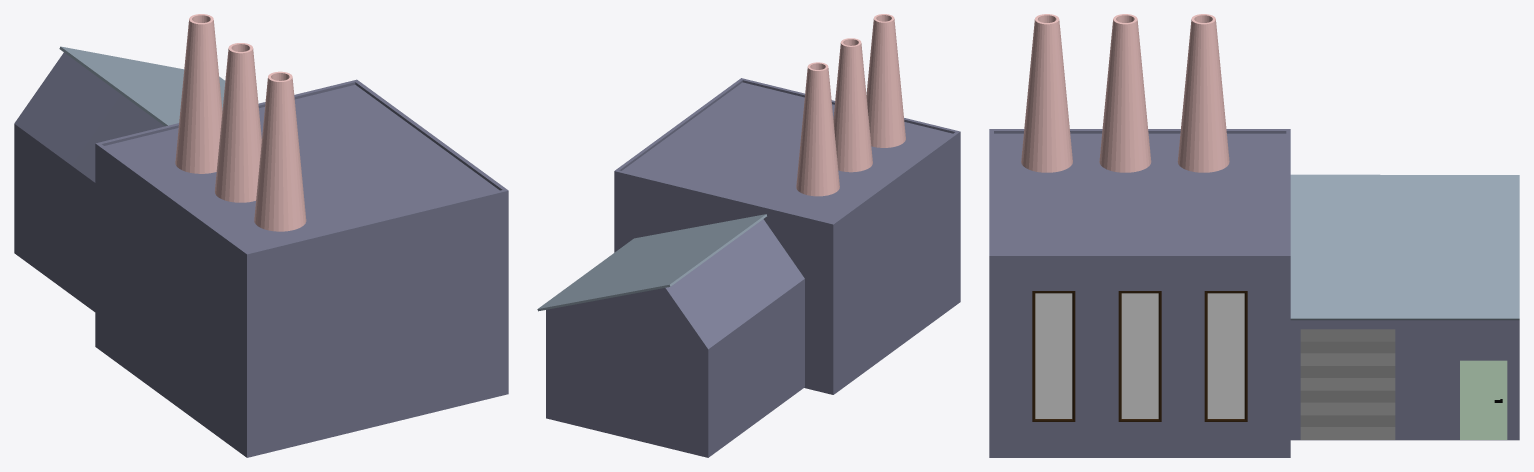
File: factory.gltf
3 renders of one model, left to right at view 1: azimuth 30°, elevation 25°; view 2: azimuth 150°, elevation 25°; view 3: azimuth 270°, elevation 25°, orthographic. The views are drawn at different scales.
Visible parts, largest first — view 1: Building, chimney, chimney.002, chimney.001, roof2; view 2: Building, roof2, chimney.002, chimney.001, chimney; view 3: Building, roof2, Window glass, Garage panel, chimney, chimney.002, chimney.001, Door, Window Frame.
Part boxes in pixels (x1,y1,x2,y2): Building: (14,52,508,457); chimney: (254,71,306,231); chimney.002: (175,14,222,173); chimney.001: (214,43,261,202); roof2: (59,46,225,126); Building: (546,78,960,457); roof2: (537,214,766,311); chimney.002: (796,62,839,196); chimney.001: (833,38,872,172); chimney: (866,14,905,147); Building: (989,129,1519,457); roof2: (1290,174,1519,320); Window glass: (1035,293,1244,418); Garage panel: (1300,329,1395,439); chimney: (1021,14,1072,172); chimney.002: (1177,14,1229,172); chimney.001: (1099,14,1151,172); Door: (1460,360,1507,439); Window Frame: (1032,291,1247,421).
Bounding box in the file's own units: 11.5 × 14.47 × 20.31.
